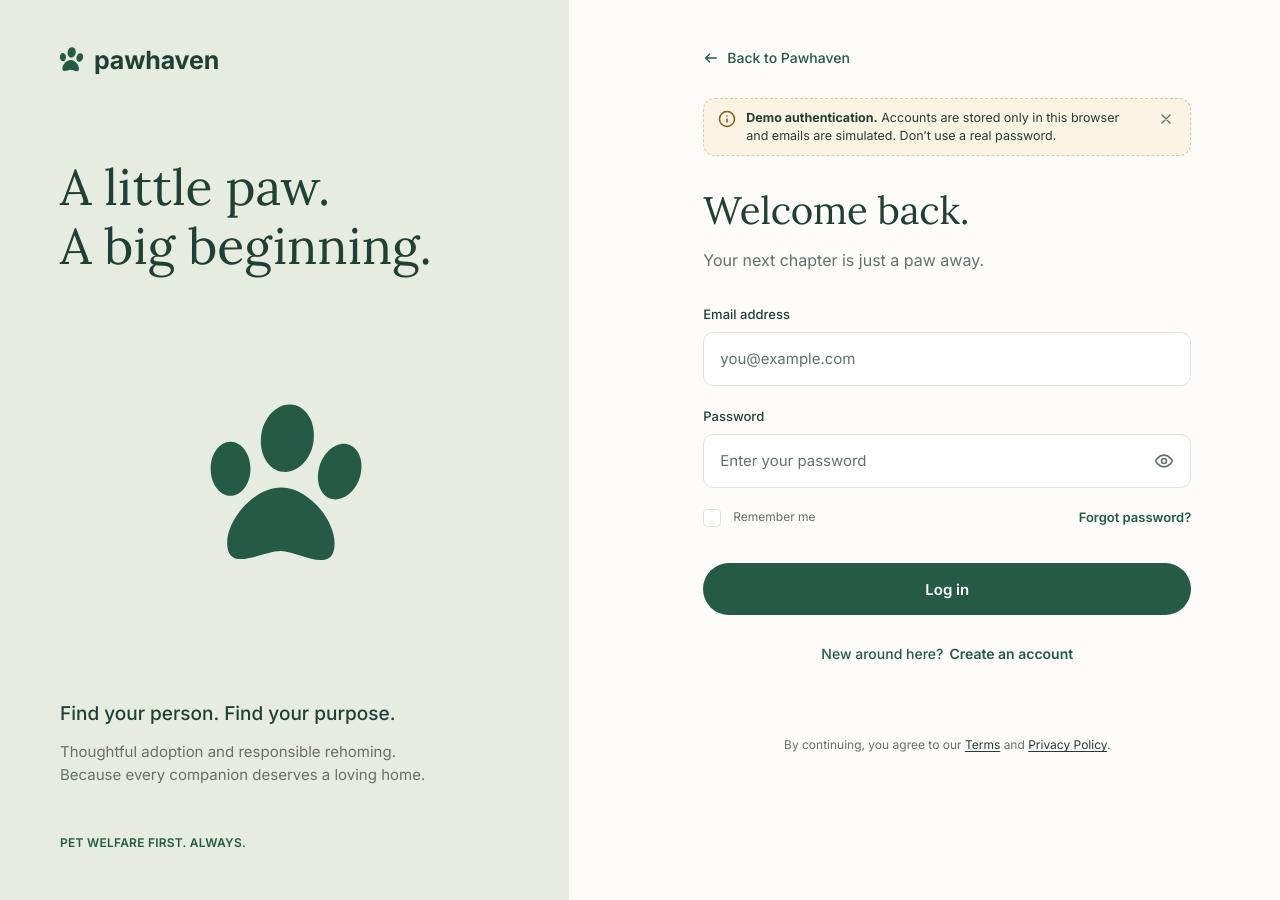
Login page › shows field errors and focuses the first invalid field
The image size is (1280, 900).
Click the button "Log in".
click(947, 589)  # box [703,563,1191,615]
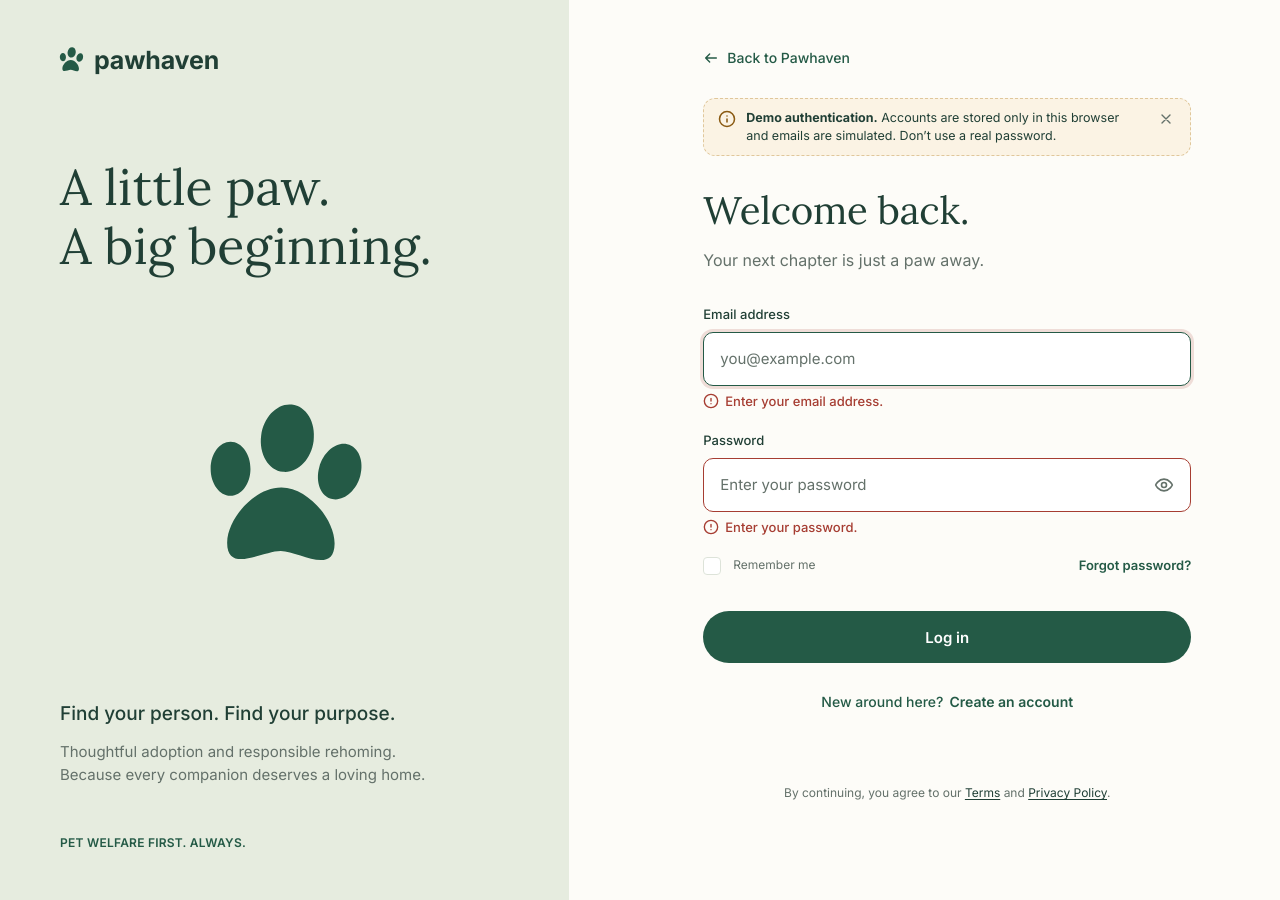
Now the text "Enter your email address." is shown, box [725,392,883,410]
Now the text "Enter your password." is shown, box [725,518,858,536]
